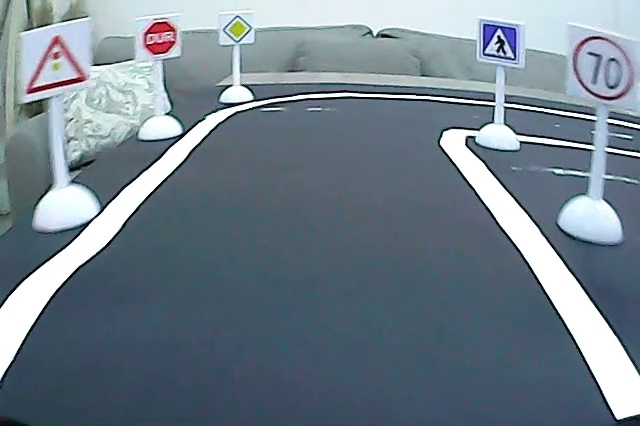pedestrian crossing: (479, 21, 520, 64)
red light: (24, 30, 92, 98)
speed limit 70: (569, 32, 637, 105)
stop sign: (141, 17, 180, 58)
